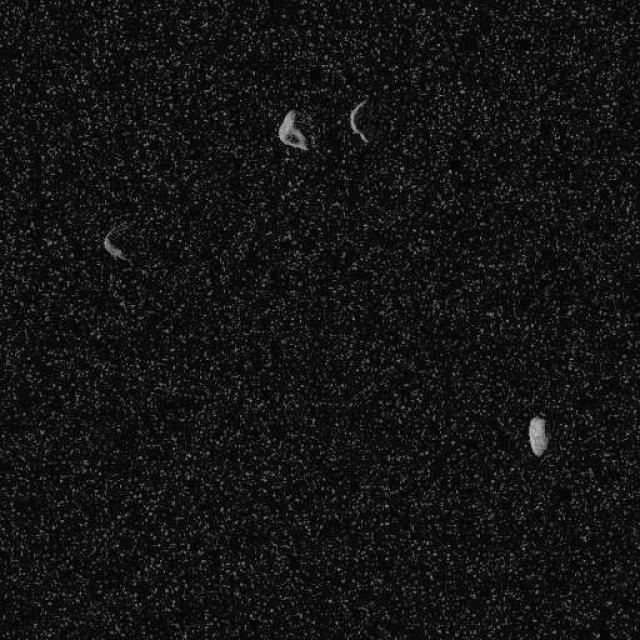D2: (101, 219, 135, 265), (276, 108, 309, 152), (348, 94, 372, 144), (526, 414, 549, 456)
